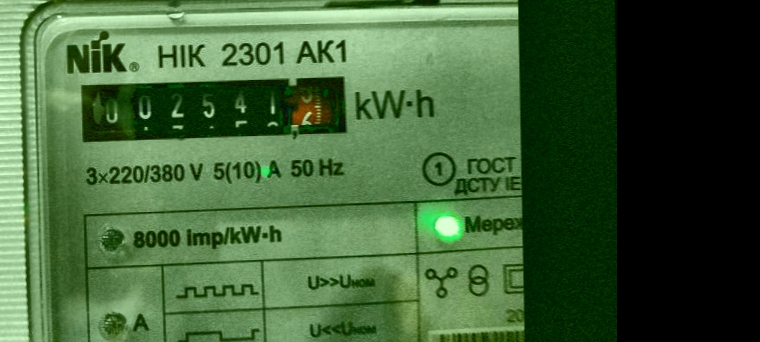0: (134, 90, 154, 123), (103, 97, 121, 126)
1: (262, 85, 279, 118)
2: (165, 88, 187, 123)
4: (231, 86, 249, 118)
5: (199, 90, 216, 122)
6: (297, 108, 314, 129)
screen: (66, 63, 367, 159)
